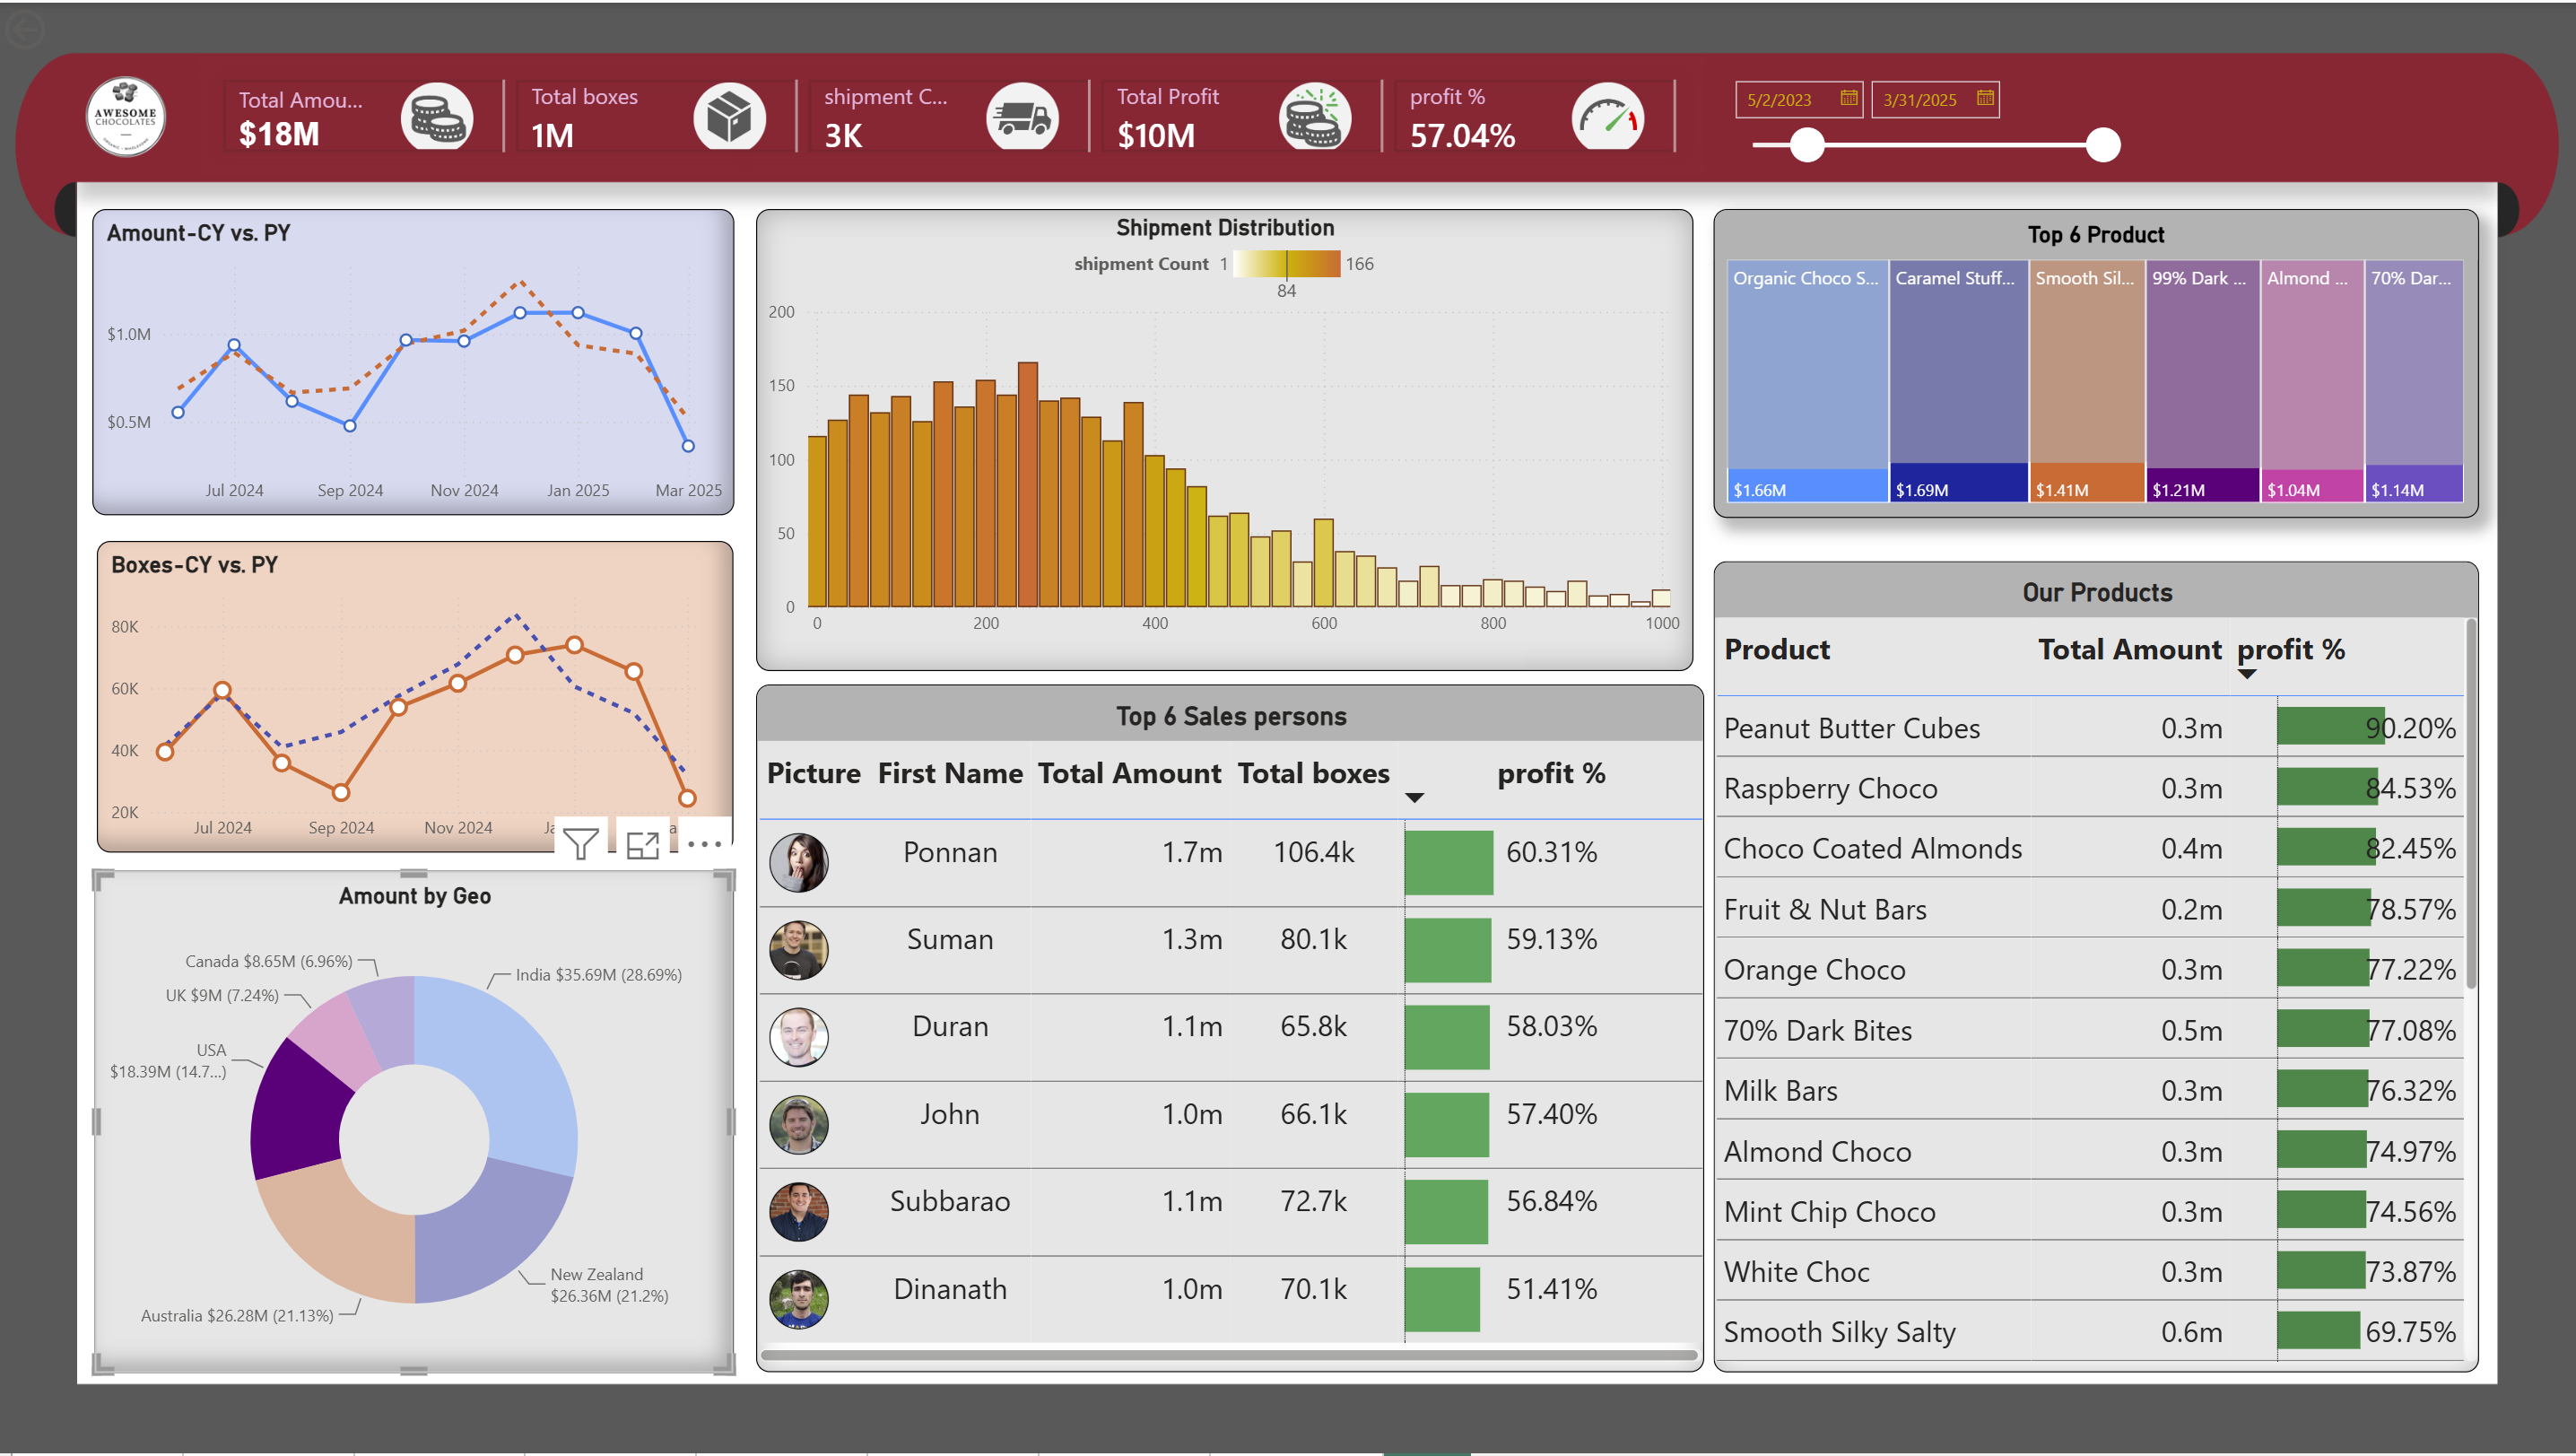

The page's visual inventory and layout, read from the dashboard file:
{"tool":"powerbi","page":{"name":"Page 8","canvas":[1920,1080],"ordinal":7},"visuals":[{"type":"lineChart","title":"Amount-CY vs. PY","fields":{"Y":["shipments.Total Amount","shipments.Total amount(last year)"],"Category":["calendar.Start of Month"]},"box":[70,154,478,228],"z":0},{"type":"lineChart","title":"Boxes-CY vs. PY","fields":{"Category":["calendar.Start of Month"],"Y":["shipments.Total boxes","calendar.Total Boxes(last year)"]},"box":[74,400,474,232],"z":1000},{"type":"donutChart","title":"Amount by Geo","fields":{"Category":["locations.Geo"],"Y":["shipments.Total Amount"]},"box":[72,646,476,374],"z":2000},{"type":"clusteredColumnChart","title":"Shipment Distribution","fields":{"Category":["shipments.Boxes (bins)"],"Y":["shipments.shipment Count"]},"box":[564,154,698,344],"z":3000},{"type":"tableEx","title":"Top 6 Sales persons","fields":{"Values":["people.Picture","people.First Name","shipments.Total Amount","shipments.Total boxes","shipments.profit %"]},"box":[564,508,706,512],"z":4000},{"type":"treemap","title":"Top 6 Product","fields":{"Values":["shipments.Total Amount"],"Group":["products.Product"]},"box":[1278,154,570,230],"z":5000},{"type":"actionButton","box":[0,0,100,40],"z":6000},{"type":"tableEx","title":"Our Products","fields":{"Values":["products.Product","shipments.Total Amount","shipments.profit %"]},"box":[1278,416,570,604],"z":7000},{"type":"cardVisual","fields":{"Data":["shipments.Total Amount","shipments.Total boxes","shipments.shipment Count","shipments.Total Profit","shipments.profit %"]},"box":[150,40,1120,88],"z":8000},{"type":"slicer","fields":{"Values":["calendar.cal_date"]},"box":[1280,48,308,72],"z":9000}]}

Visuals, with their boxes in screenshot pixels (x1, y1, x2, y2), scaled from the page's 1920x1080 canvas onto the 2576x1456 screenshot:
"Amount-CY vs. PY" lineChart: [94, 207, 735, 515]
"Boxes-CY vs. PY" lineChart: [100, 539, 735, 852]
"Amount by Geo" donutChart: [97, 871, 735, 1375]
"Shipment Distribution" clusteredColumnChart: [757, 207, 1693, 671]
"Top 6 Sales persons" tableEx: [757, 684, 1704, 1375]
"Top 6 Product" treemap: [1715, 207, 2479, 518]
actionButton: [0, 0, 135, 54]
"Our Products" tableEx: [1715, 561, 2479, 1375]
cardVisual - shipments.Total Amount x shipments.Total boxes: [201, 54, 1704, 172]
slicer - calendar.cal_date: [1718, 65, 2130, 161]
